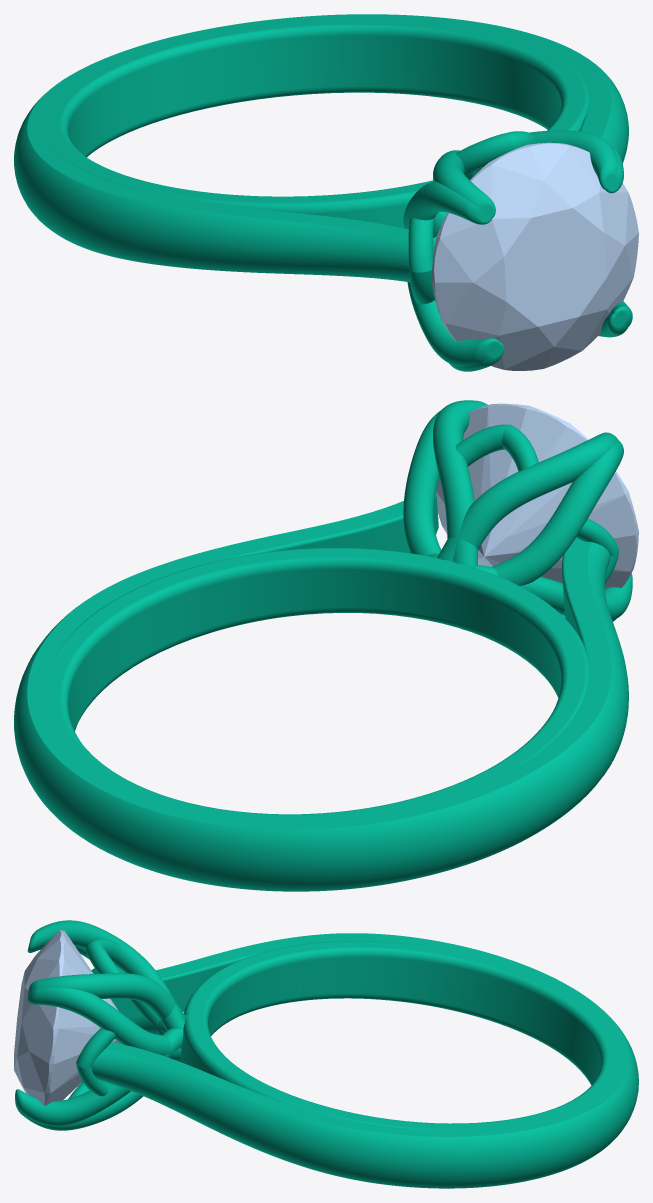
3 views of the same model, one above another, from view 1: azimuth 30°, elevation 25°; view 2: azimuth 150°, elevation 25°; view 3: azimuth 270°, elevation 25° (orthographic). The views are drawn at different scales.
Visible parts, largest first — view 1: VR-61(base).3dm, Diamond_Round; view 2: VR-61(base).3dm, Diamond_Round; view 3: VR-61(base).3dm, Diamond_Round.
Part boxes in pixels (<box>): VR-61(base).3dm: <box>14,14,632,371</box>; Diamond_Round: <box>431,142,638,370</box>; VR-61(base).3dm: <box>14,400,632,891</box>; Diamond_Round: <box>436,403,638,588</box>; VR-61(base).3dm: <box>15,920,638,1188</box>; Diamond_Round: <box>14,930,120,1105</box>.
Bounding box in the file's own units: 2.42 × 0.9402 × 3.05.
